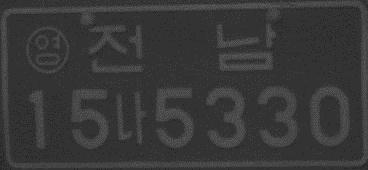0: (307, 84, 351, 147)
1: (18, 89, 58, 151)
3: (255, 85, 301, 149), (204, 85, 248, 148)
5: (69, 87, 110, 149), (153, 85, 194, 147)
나: (113, 91, 148, 145)
영: (24, 25, 71, 75)
전남_D: (84, 21, 276, 73)
